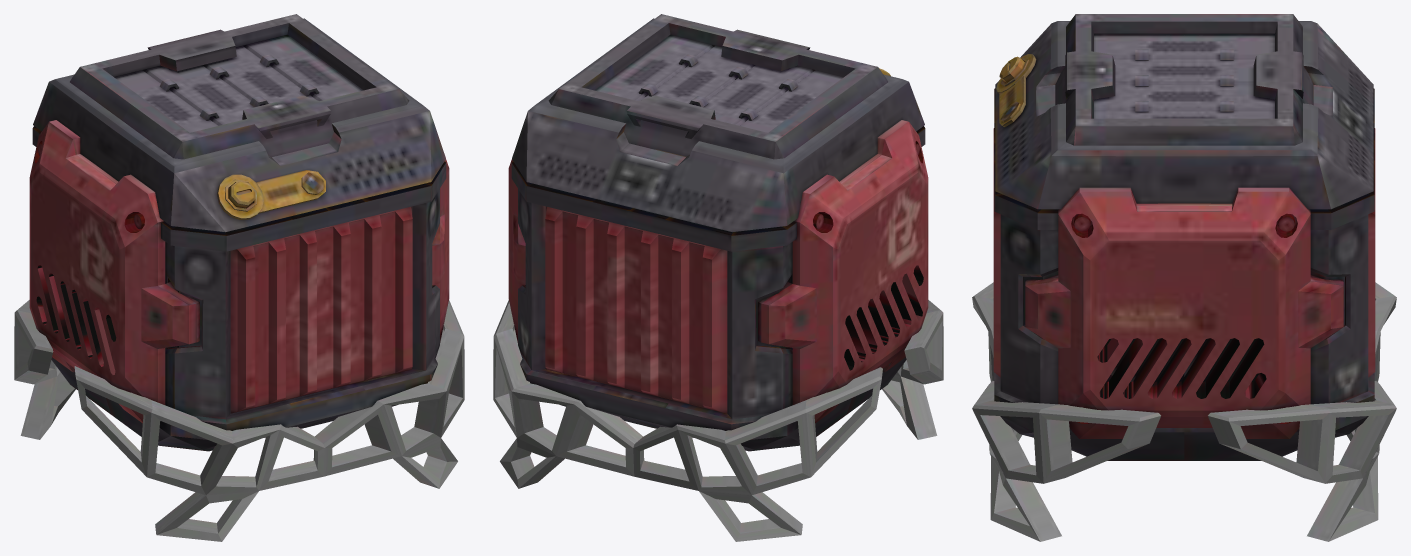
Rendered from container.glb.
The picture shows the model from 3 angles, left to right: view 1: azimuth 30°, elevation 25°; view 2: azimuth 150°, elevation 25°; view 3: azimuth 270°, elevation 25°; orthographic projection. The views are drawn at different scales.
Visible parts, largest first — view 1: lifangti; view 2: lifangti; view 3: lifangti.
Boxes of the visible parts, left/top/right/bottom form: lifangti: left=14, top=14, right=464, bottom=541; lifangti: left=493, top=14, right=943, bottom=541; lifangti: left=972, top=14, right=1396, bottom=541.
Bounding box in the file's own units: 11.9 × 11.42 × 11.17.
Materials: 1 (1 with a texture image).
